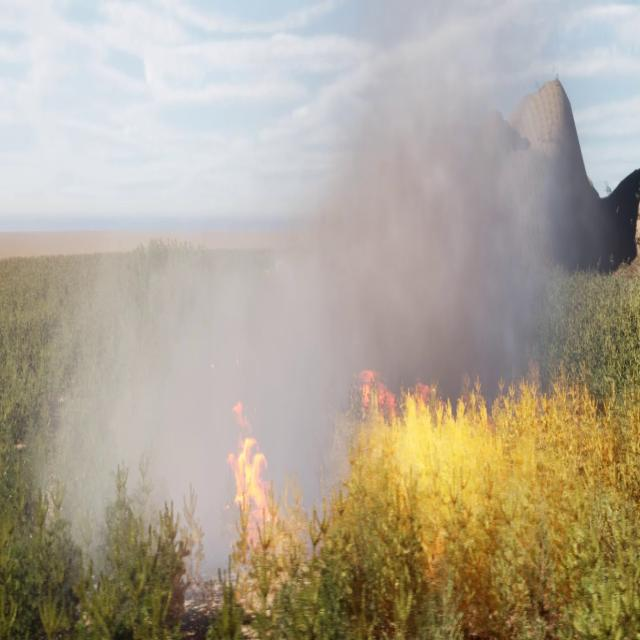fire: (345, 374, 640, 559), (219, 402, 278, 544)
smoke: (45, 0, 640, 557)
